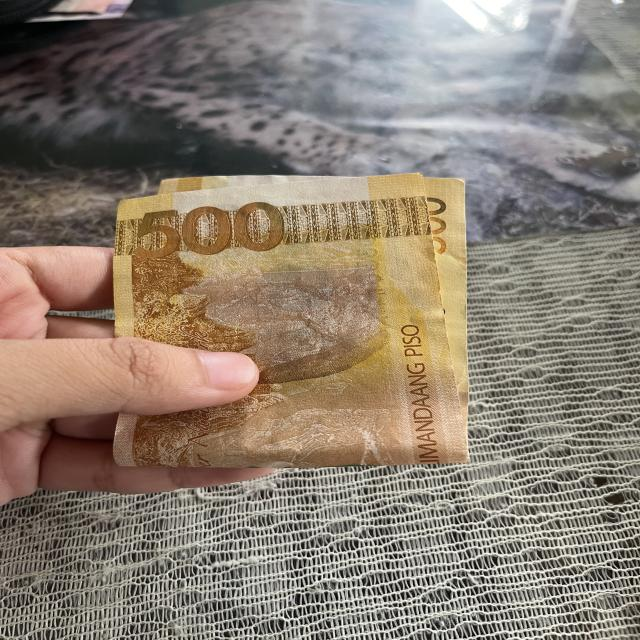value: (131, 198, 295, 260)
